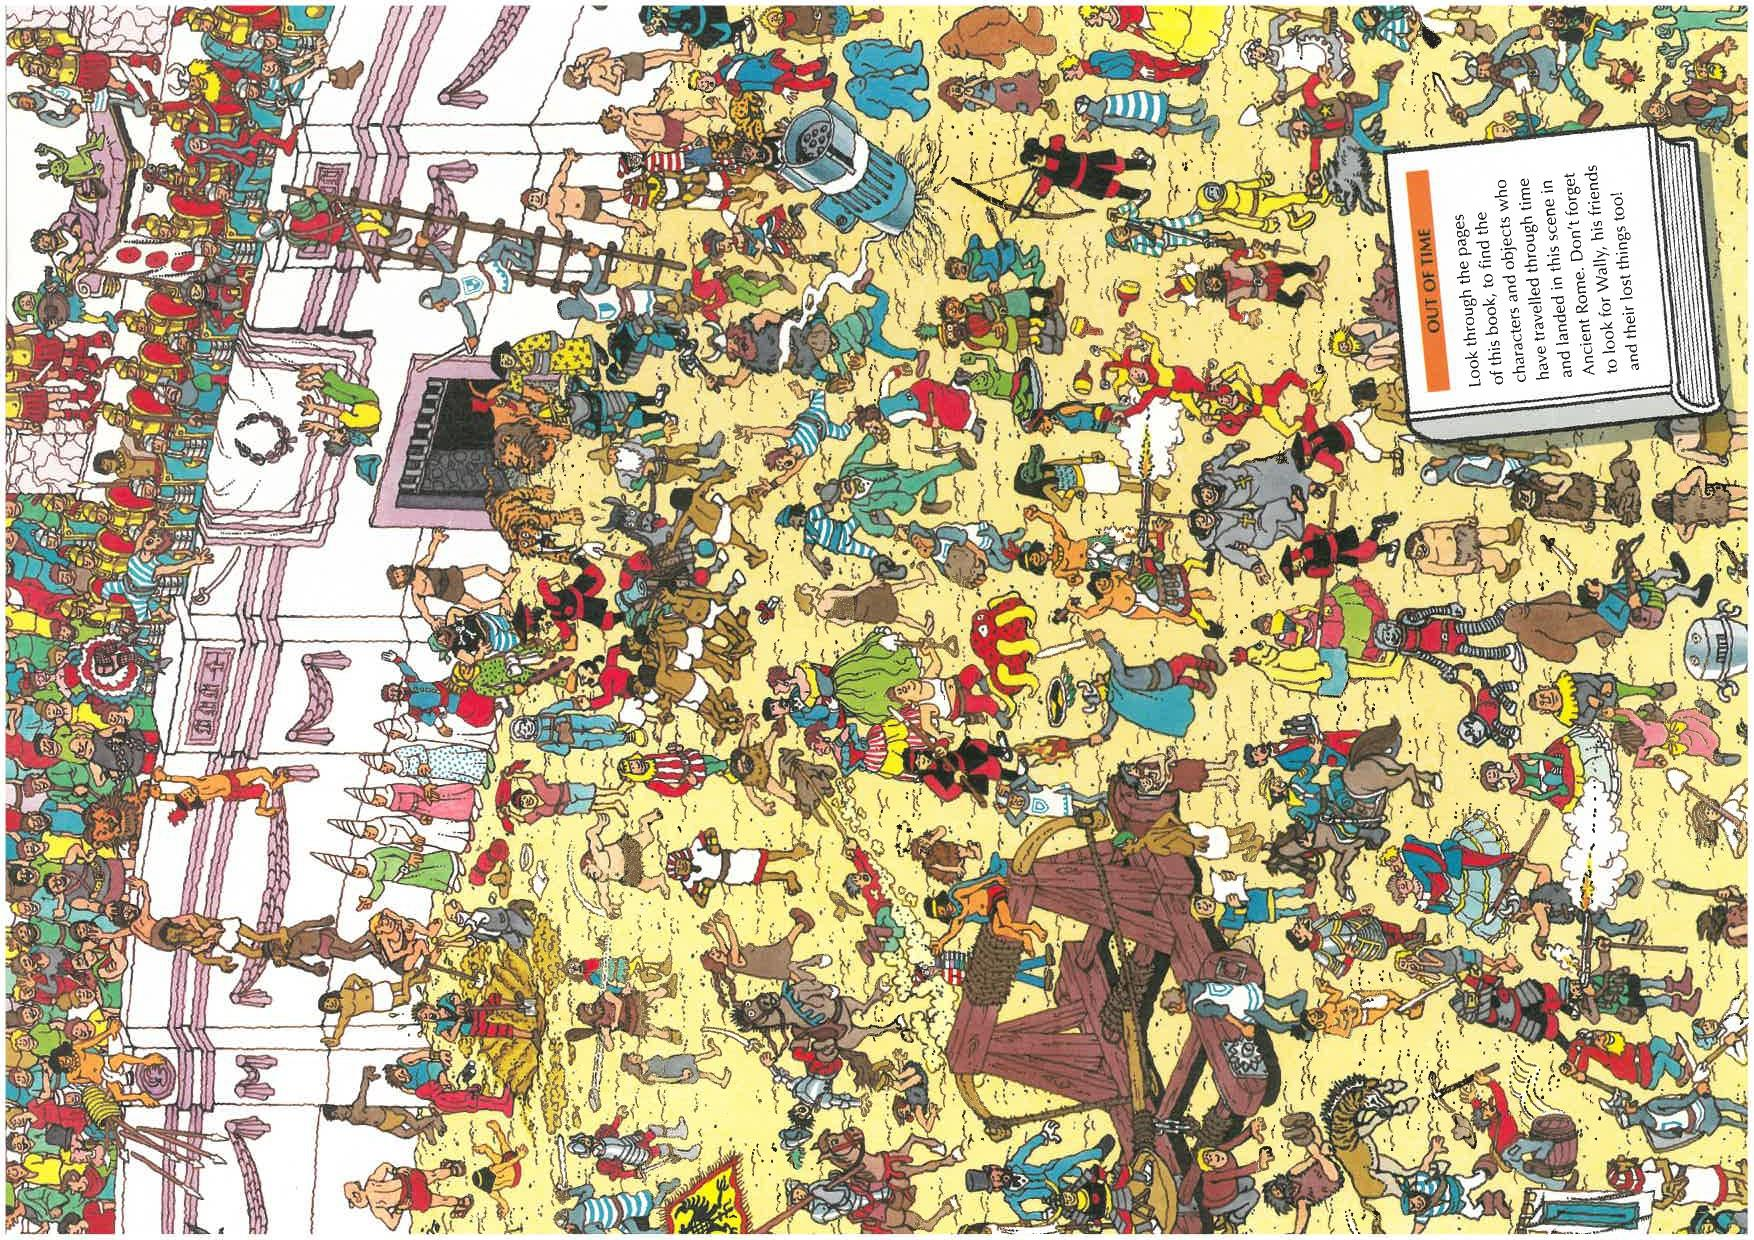waldos: (910, 941, 1053, 993)
